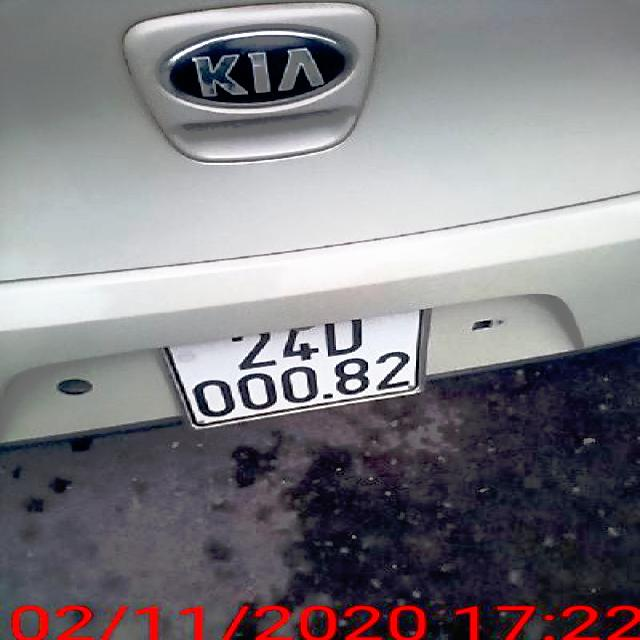license_plate: (163, 308, 429, 431)
